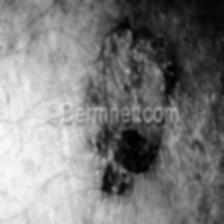Potentially Malignant Skin Tumors: (85, 22, 173, 104), (90, 125, 166, 199)
